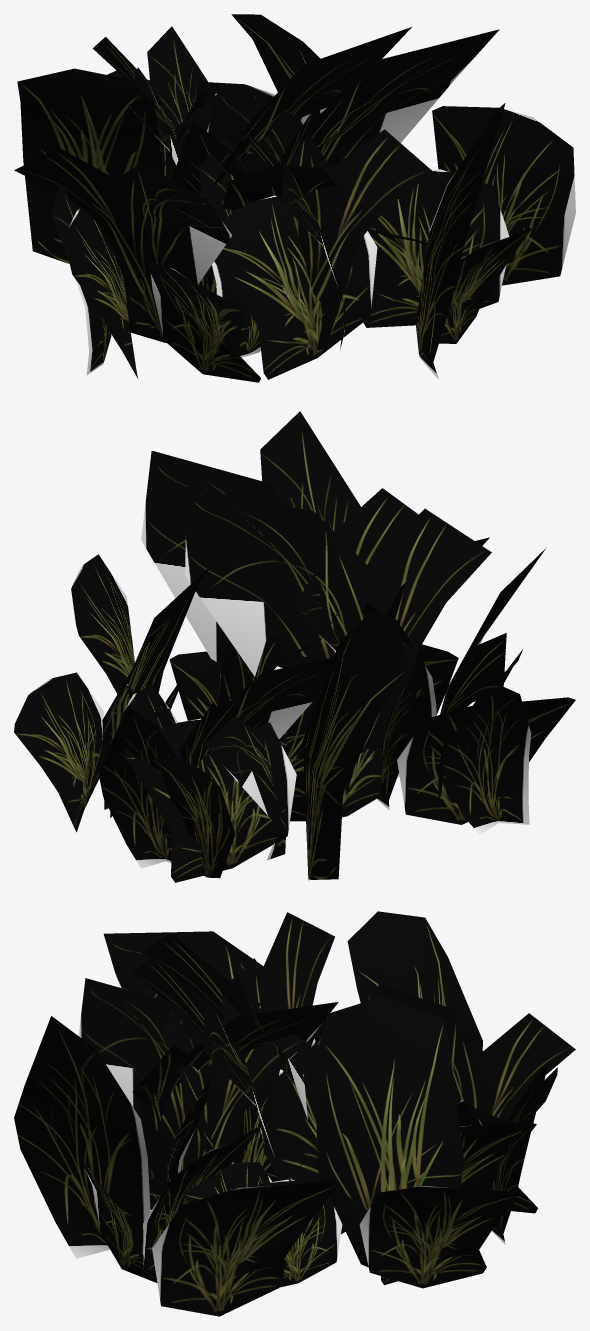
File: grass1 1.fbx
The picture shows the model from 3 angles, top to bottom: view 1: azimuth 30°, elevation 25°; view 2: azimuth 150°, elevation 25°; view 3: azimuth 270°, elevation 25°; orthographic projection. The views are drawn at different scales.
Visible parts, largest first — view 1: grasspatch1; view 2: grasspatch1; view 3: grasspatch1.
Part boxes in pixels (left/top/right/bottom): grasspatch1: left=14, top=14, right=575, bottom=382; grasspatch1: left=14, top=411, right=575, bottom=882; grasspatch1: left=14, top=911, right=575, bottom=1316.
Size of the model in its own units: 236 by 126 by 239.
